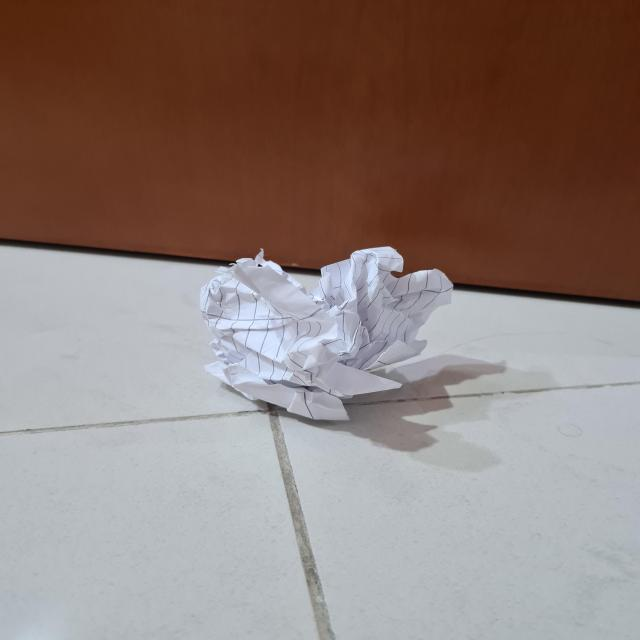cardboard paper: (200, 246, 451, 418)
